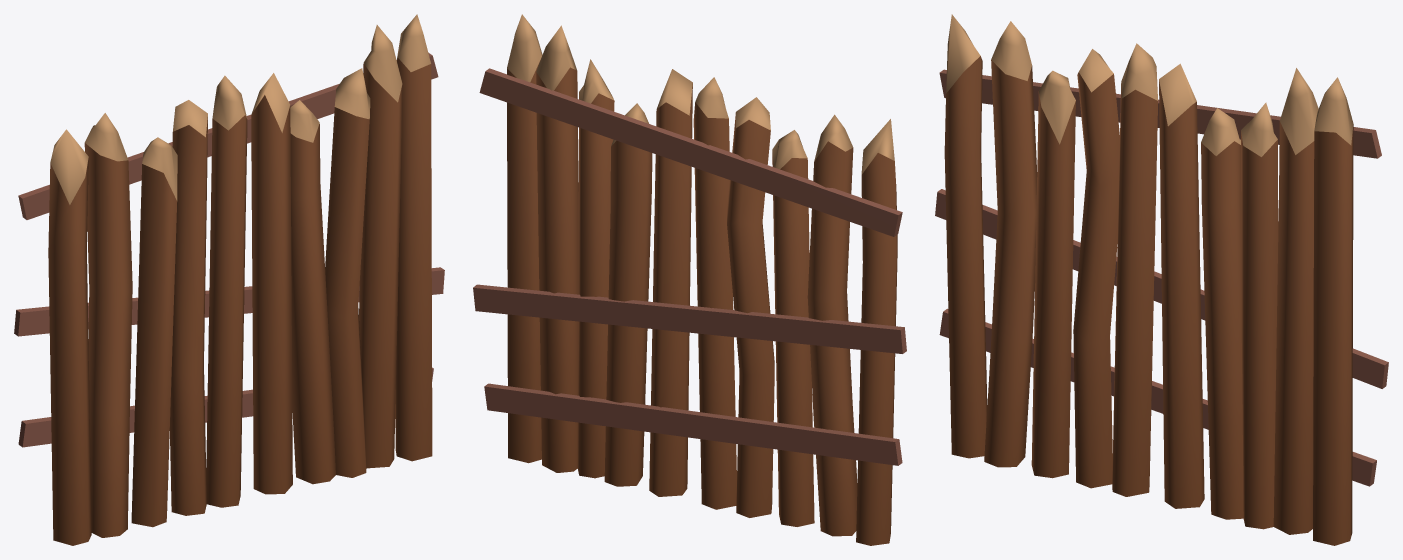
The model's file is Fence_WoodC_B.fbx.
3 views of the same model, side by side, from view 1: azimuth 30°, elevation 25°; view 2: azimuth 150°, elevation 25°; view 3: azimuth 330°, elevation 25° (orthographic). The views are drawn at different scales.
Visible parts, largest first — view 1: Fence_WoodC_B; view 2: Fence_WoodC_B; view 3: Fence_WoodC_B.
Boxes of the visible parts, left/top/right/bottom form: Fence_WoodC_B: left=14, top=14, right=444, bottom=545; Fence_WoodC_B: left=473, top=14, right=906, bottom=545; Fence_WoodC_B: left=935, top=14, right=1388, bottom=545.
Size of the model in its own units: 577 by 565 by 64.66.
